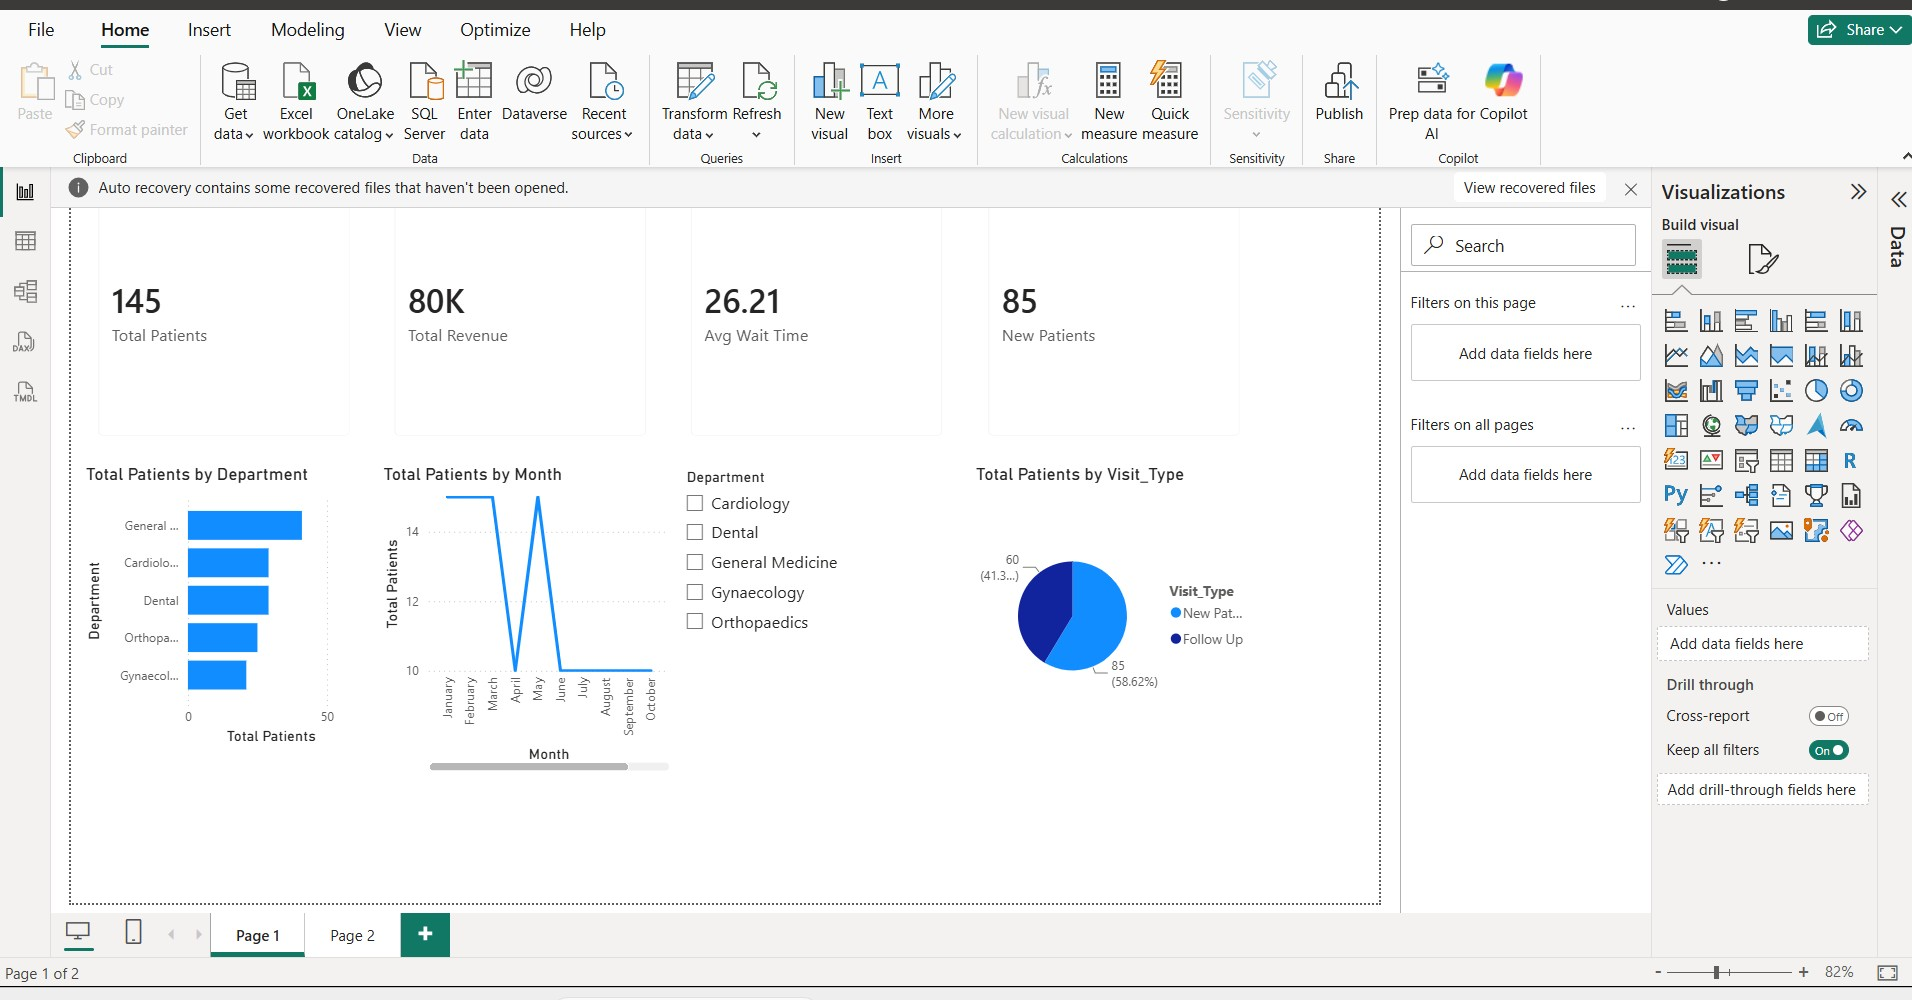

The page's visual inventory and layout, read from the dashboard file:
{"tool":"powerbi","page":{"name":"Page 1","canvas":[1280,720],"ordinal":0},"visuals":[{"type":"cardVisual","fields":{"Data":["hospital_opd_data.Total Patients"]},"box":[10,0,280,280],"z":0},{"type":"cardVisual","fields":{"Data":["hospital_opd_data.Total Revenue"]},"box":[300,0,280,280],"z":1000},{"type":"cardVisual","fields":{"Data":["hospital_opd_data.Avg Wait Time"]},"box":[590,0,280,280],"z":2000},{"type":"cardVisual","fields":{"Data":["hospital_opd_data.New Patients"]},"box":[880,0,280,280],"z":3000},{"type":"clusteredBarChart","fields":{"Category":["hospital_opd_data.Department"],"Y":["hospital_opd_data.Total Patients"]},"box":[10,290,280,280],"z":4000},{"type":"lineChart","fields":{"Y":["hospital_opd_data.Total Patients"],"Category":["hospital_opd_data.Visit_Date.Variation.Date Hierarchy.Month"]},"box":[300.5,289.5,289.5,306],"z":5000},{"type":"slicer","fields":{"Values":["hospital_opd_data.Department"]},"box":[590,290,280,280],"z":6000},{"type":"pieChart","fields":{"Category":["hospital_opd_data.Visit_Type"],"Y":["hospital_opd_data.Total Patients"]},"box":[880,290,280,280],"z":7000}]}

Visuals, with their boxes on the page's 1280x720 design canvas (x1, y1, x2, y2). These are canvas units, not pixel positions in the 1912x1000 screenshot, which may show the page scaled, cropped or inside an application window:
cardVisual - hospital_opd_data.Total Patients: [10, 0, 290, 280]
cardVisual - hospital_opd_data.Total Revenue: [300, 0, 580, 280]
cardVisual - hospital_opd_data.Avg Wait Time: [590, 0, 870, 280]
cardVisual - hospital_opd_data.New Patients: [880, 0, 1160, 280]
clusteredBarChart - hospital_opd_data.Department x hospital_opd_data.Total Patients: [10, 290, 290, 570]
lineChart - hospital_opd_data.Total Patients x hospital_opd_data.Visit_Date.Variation.Date Hierarchy.Month: [300, 290, 590, 596]
slicer - hospital_opd_data.Department: [590, 290, 870, 570]
pieChart - hospital_opd_data.Visit_Type x hospital_opd_data.Total Patients: [880, 290, 1160, 570]
